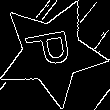P_E: (23, 30, 80, 75)
